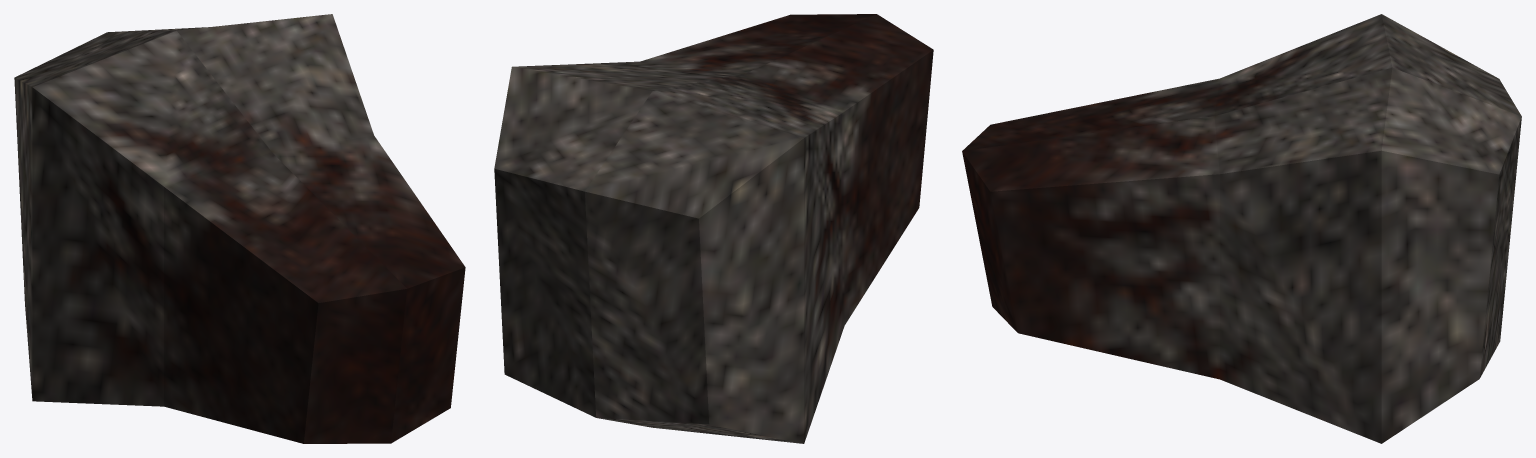
Rendered from geonachfist.obj.
3 renders of one model, left to right at view 1: azimuth 30°, elevation 25°; view 2: azimuth 150°, elevation 25°; view 3: azimuth 270°, elevation 25°, orthographic. The views are drawn at different scales.
Parts seen in each view (by area): view 1: Base; view 2: Base; view 3: Base.
Boxes of the visible parts, bbox=[...] form: Base: bbox=[14, 14, 465, 443]; Base: bbox=[494, 14, 933, 443]; Base: bbox=[962, 14, 1521, 443].
Size of the model in its own units: 0.6 by 0.66 by 1.04.
